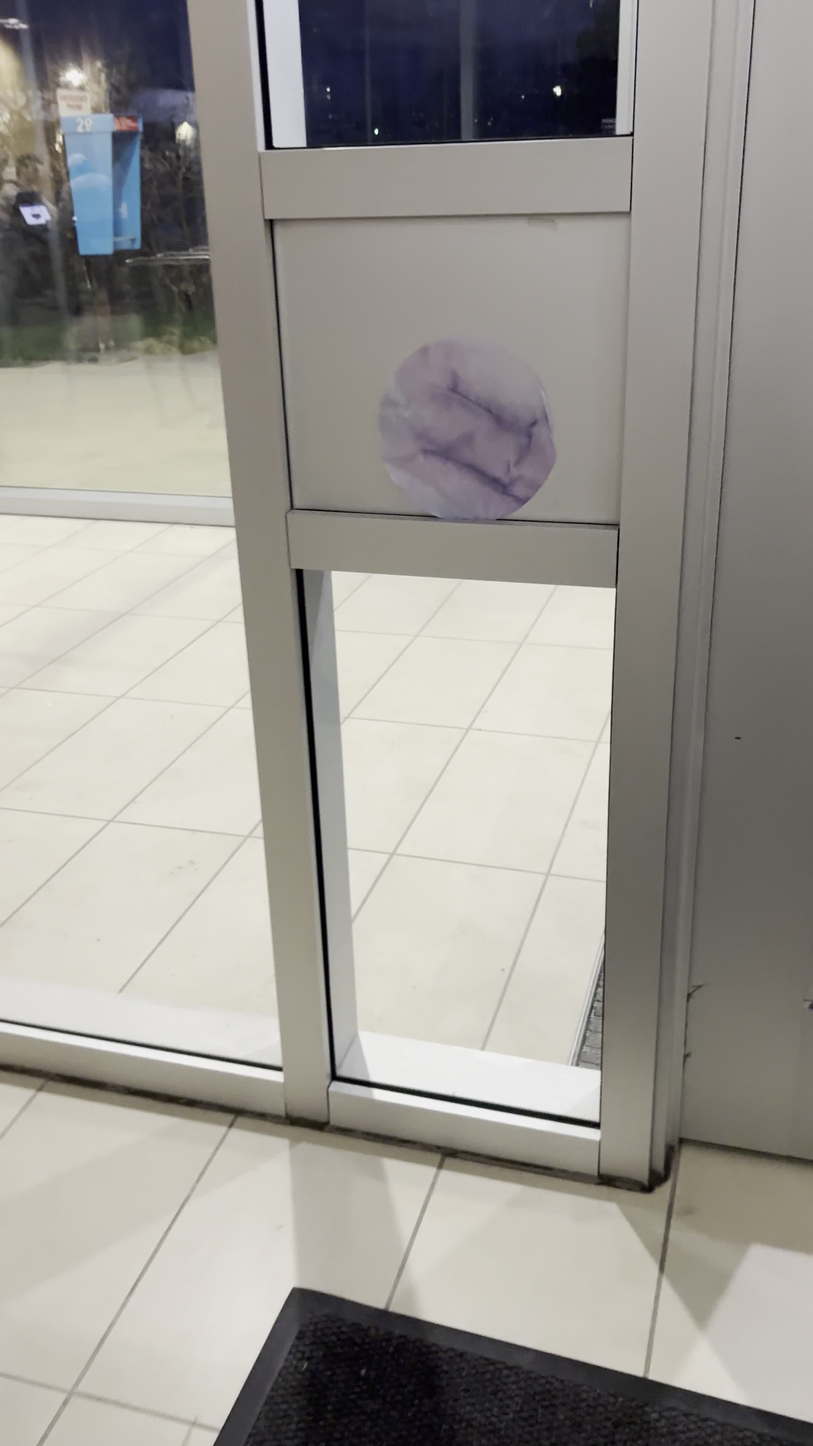Target: (374, 333, 560, 526)
